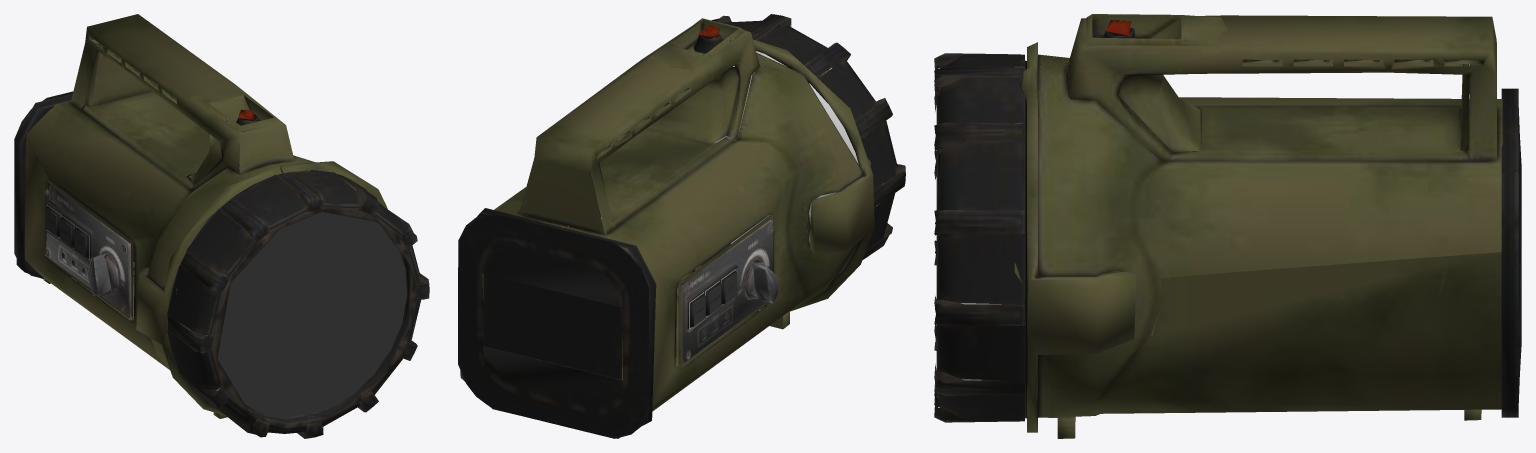
The model's file is ph_portable_searchlight.glb.
The picture shows the model from 3 angles, left to right: view 1: azimuth 30°, elevation 25°; view 2: azimuth 150°, elevation 25°; view 3: azimuth 270°, elevation 25°; orthographic projection. The views are drawn at different scales.
Parts seen in each view (by area): view 1: portable_searchlight; view 2: portable_searchlight; view 3: portable_searchlight.
Boxes of the visible parts, left/top/right/bottom form: portable_searchlight: left=14, top=14, right=429, bottom=438; portable_searchlight: left=458, top=14, right=905, bottom=438; portable_searchlight: left=934, top=14, right=1521, bottom=438.
Bounding box in the file's own units: 0.1647 × 0.1862 × 0.2535.
2 materials, 2 textured.
